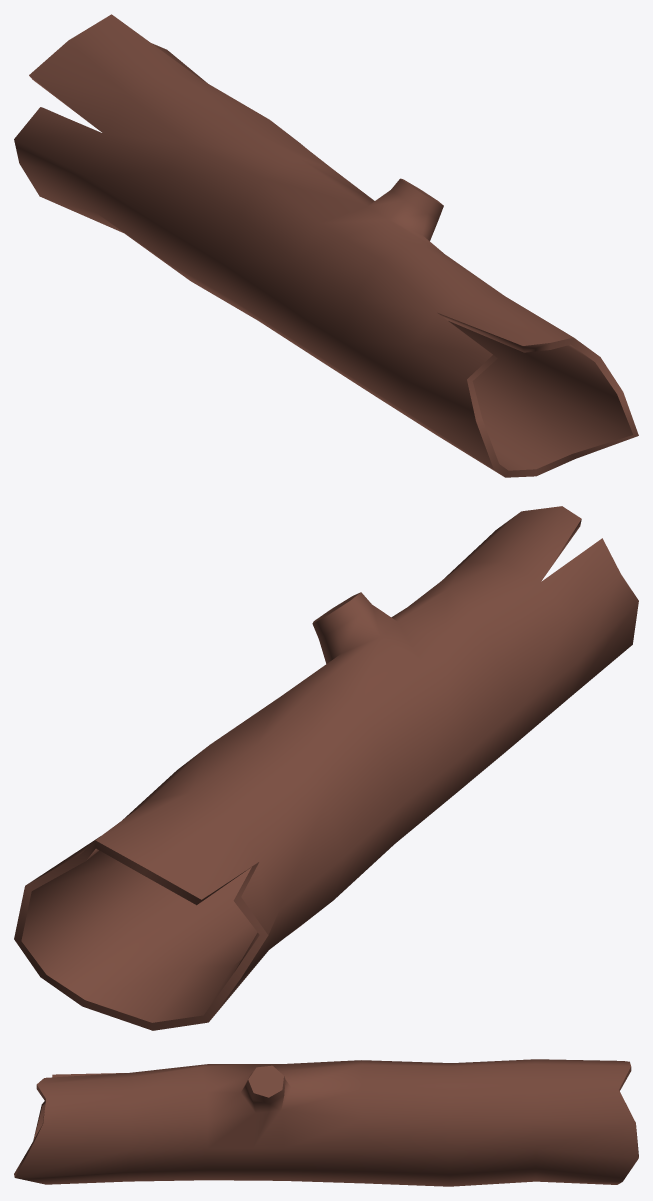
The model's file is LogNew_low.fbx.
3 renders of one model, top to bottom at view 1: azimuth 30°, elevation 25°; view 2: azimuth 150°, elevation 25°; view 3: azimuth 270°, elevation 25°, orthographic. The views are drawn at different scales.
Parts seen in each view (by area): view 1: Log; view 2: Log; view 3: Log.
Boxes of the visible parts, x1,y1,x2,y2 form: Log: (14, 14, 638, 477); Log: (14, 506, 638, 1030); Log: (14, 1059, 638, 1186).
Size of the model in its own units: 3.1 by 11.45 by 2.62.
